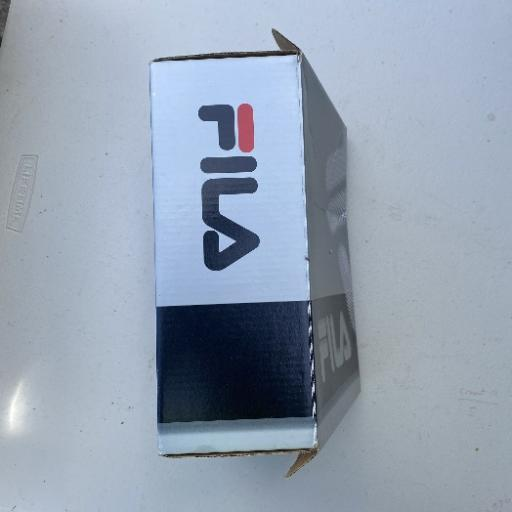Cardboard: (146, 32, 364, 469)
